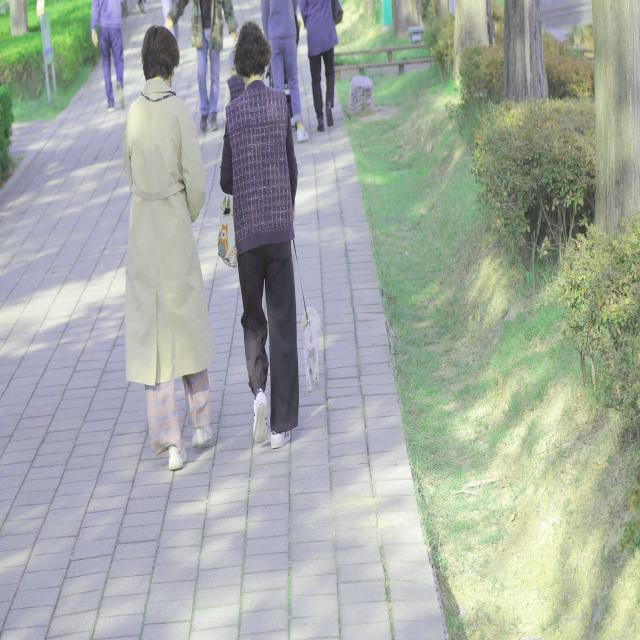Leashed_Dog: (272, 201, 320, 393)
